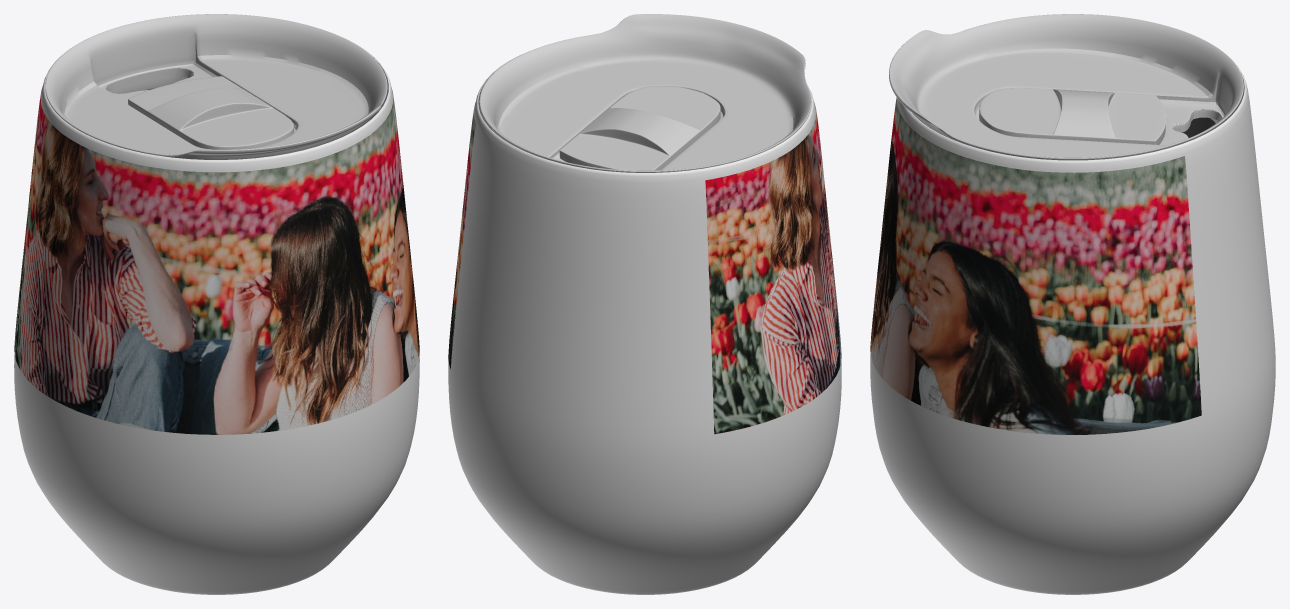
The model's file is EEVEE3js.gltf.
3 views of the same model, side by side, from view 1: azimuth 30°, elevation 25°; view 2: azimuth 150°, elevation 25°; view 3: azimuth 270°, elevation 25° (orthographic). The views are drawn at different scales.
Parts seen in each view (by area): view 1: Subject.000, 11oz_MetalMug, AcrylicTop, ClearTopAcylic_Slide; view 2: 11oz_MetalMug, Subject.000, AcrylicTop, ClearTopAcylic_Slide; view 3: Subject.000, 11oz_MetalMug, AcrylicTop, ClearTopAcylic_Slide.
Boxes of the visible parts, x1=… form: Subject.000: x1=14, y1=88, x2=419, y2=434; 11oz_MetalMug: x1=14, y1=34, x2=419, y2=594; AcrylicTop: x1=45, y1=14, x2=387, y2=159; ClearTopAcylic_Slide: x1=128, y1=76, x2=293, y2=149; 11oz_MetalMug: x1=448, y1=55, x2=841, y2=594; Subject.000: x1=448, y1=102, x2=841, y2=434; AcrylicTop: x1=479, y1=14, x2=811, y2=172; ClearTopAcylic_Slide: x1=559, y1=86, x2=720, y2=170; Subject.000: x1=870, y1=97, x2=1201, y2=434; 11oz_MetalMug: x1=870, y1=55, x2=1275, y2=594; AcrylicTop: x1=889, y1=14, x2=1243, y2=160; ClearTopAcylic_Slide: x1=979, y1=87, x2=1166, y2=144.
Bounding box in the file's own units: 0.0918 × 0.1174 × 0.0918.
